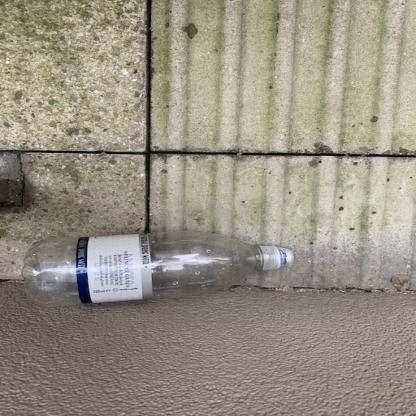trash: (19, 222, 294, 313)
